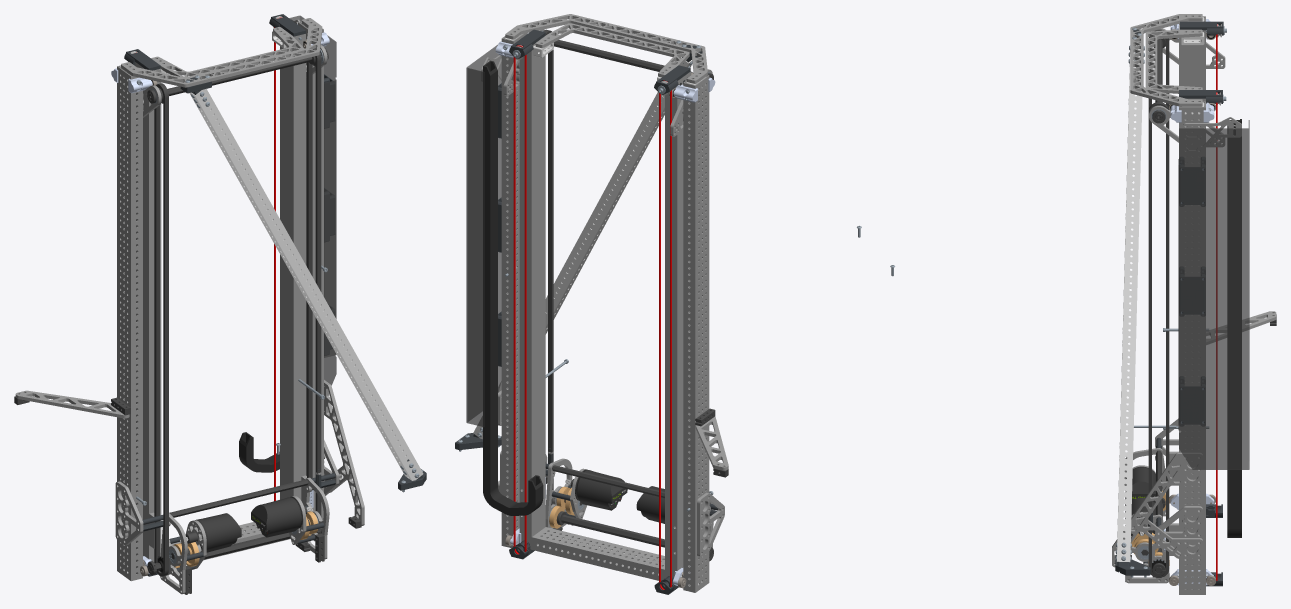
3 renders of one model, left to right at view 1: azimuth 30°, elevation 25°; view 2: azimuth 150°, elevation 25°; view 3: azimuth 270°, elevation 25°, orthographic. The views are drawn at different scales.
Visible parts, largest first — view 1: 581-25J0002mid stage vertical (×2), 581-25J0001fixed vertical (×2), 25Chain-315-16-16 (×2), Tube 1"x1"x38.5", 581-25D0022, Kraken X60 Brushless Motor (×2), 581-25J0004fixed link, 581-25J0011, 581-25J0003mid stage link, 581-25J0010, 581-25J0007 Mirror, 581-25J0005 Mirror (+6 smaller); view 2: 581-25J0001fixed vertical (×2), 581-25J0002mid stage vertical (×2), 581-25D0022, Energy Chain 10x20mm - # Links, Tube 1"x1"x38.5", 581-25D0004, Part 11, 25Chain-315-16-16, 581-25J0004fixed link, Kraken X60 Brushless Motor (×2), Part 14, 581-25J0003mid stage link (+6 smaller); view 3: 581-25D0022, 581-25J0001fixed vertical, Tube 1"x1"x38.5", Energy Chain 10x20mm - # Links, 25Chain-315-16-16, 581-25J0011, 581-25J0004fixed link, 581-25J0003mid stage link, 581-25J0002mid stage vertical, Part 33, Part 32, Part 31 (+7 smaller).
Boxes of the visible parts, left/top/right/bottom form: 581-25J0002mid stage vertical (×2): left=135, top=34, right=305, bottom=561; 581-25J0001fixed vertical (×2): left=117, top=21, right=323, bottom=581; 25Chain-315-16-16 (×2): left=154, top=48, right=321, bottom=576; Tube 1"x1"x38.5": left=189, top=89, right=423, bottom=480; 581-25D0022: left=289, top=15, right=336, bottom=385; Kraken X60 Brushless Motor (×2): left=180, top=497, right=312, bottom=552; 581-25J0004fixed link: left=121, top=18, right=322, bottom=87; 581-25J0011: left=324, top=380, right=364, bottom=525; 581-25J0003mid stage link: left=151, top=27, right=304, bottom=77; 581-25J0010: left=15, top=390, right=129, bottom=418; 581-25J0007 Mirror: left=115, top=481, right=143, bottom=545; 581-25J0005 Mirror: left=160, top=513, right=187, bottom=594; 581-25J0001fixed vertical (×2): left=501, top=33, right=709, bottom=592; 581-25J0002mid stage vertical (×2): left=519, top=43, right=691, bottom=578; 581-25D0022: left=466, top=44, right=501, bottom=427; Energy Chain 10x20mm - # Links: left=483, top=60, right=543, bottom=515; Tube 1"x1"x38.5": left=473, top=57, right=692, bottom=439; 581-25D0004: left=531, top=527, right=664, bottom=580; Part 11: left=513, top=45, right=526, bottom=554; 25Chain-315-16-16: left=543, top=29, right=553, bottom=505; 581-25J0004fixed link: left=505, top=14, right=707, bottom=83; Kraken X60 Brushless Motor (×2): left=565, top=470, right=664, bottom=523; Part 14: left=659, top=80, right=671, bottom=589; 581-25J0003mid stage link: left=535, top=23, right=689, bottom=77; 581-25D0022: left=1178, top=120, right=1249, bottom=469; 581-25J0001fixed vertical: left=1179, top=101, right=1205, bottom=594; Tube 1"x1"x38.5": left=1116, top=45, right=1143, bottom=562; Energy Chain 10x20mm - # Links: left=1227, top=119, right=1241, bottom=537; 25Chain-315-16-16: left=1148, top=102, right=1169, bottom=577; 581-25J0011: left=1112, top=452, right=1203, bottom=567; 581-25J0004fixed link: left=1130, top=14, right=1202, bottom=106; 581-25J0003mid stage link: left=1145, top=29, right=1202, bottom=93; 581-25J0002mid stage vertical: left=1179, top=24, right=1205, bottom=89; Part 33: left=1179, top=376, right=1205, bottom=426; Part 32: left=1179, top=266, right=1205, bottom=316; Part 31: left=1179, top=157, right=1205, bottom=206.
Bounding box in the file's own units: 0.7049 × 1.02 × 0.7295.
